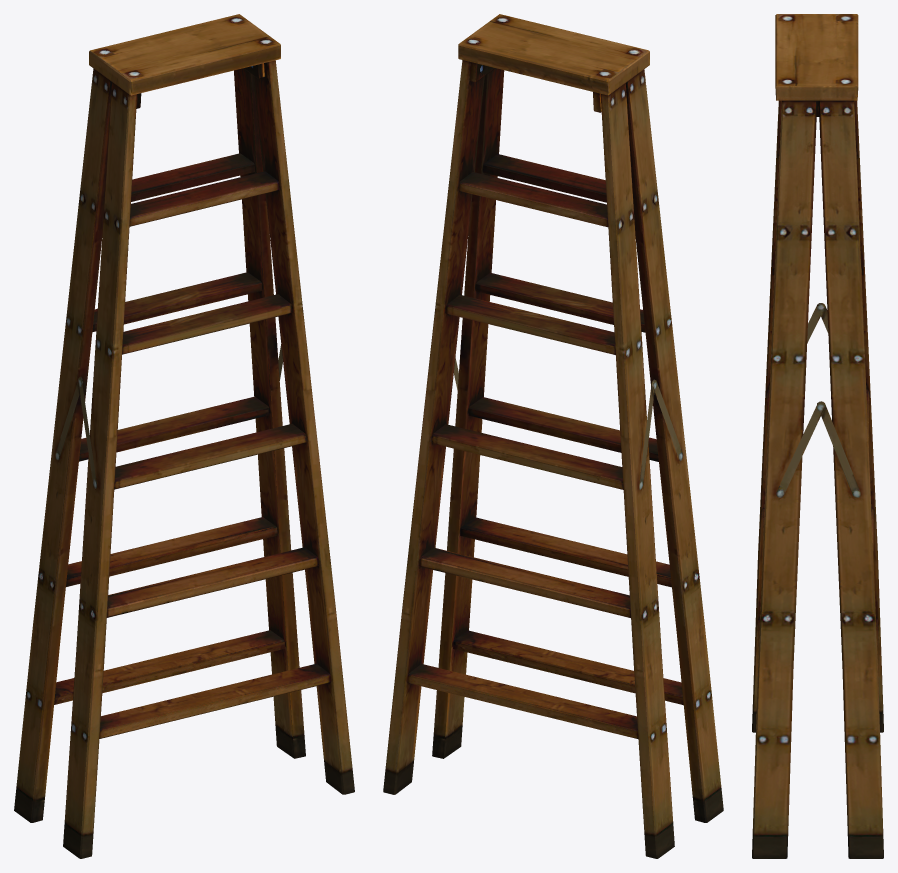
The model's file is Stairs.FBX.
3 views of the same model, side by side, from view 1: azimuth 30°, elevation 25°; view 2: azimuth 150°, elevation 25°; view 3: azimuth 270°, elevation 25° (orthographic).
Parts seen in each view (by area): view 1: stairs; view 2: stairs; view 3: stairs.
Part boxes in pixels (x1=…): stairs: x1=14, y1=14, x2=354, y2=858; stairs: x1=383, y1=14, x2=723, y2=858; stairs: x1=752, y1=14, x2=883, y2=858.
Bounding box in the file's own units: 67.09 × 176 × 28.26.
Materials: 1 (1 with a texture image).
